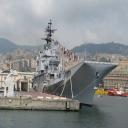Portanaves: (32, 19, 120, 112)
